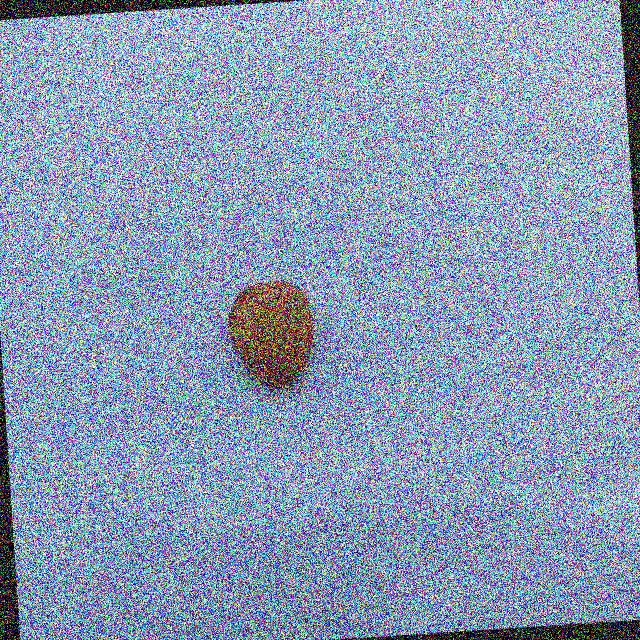grade1: (219, 272, 328, 400)
